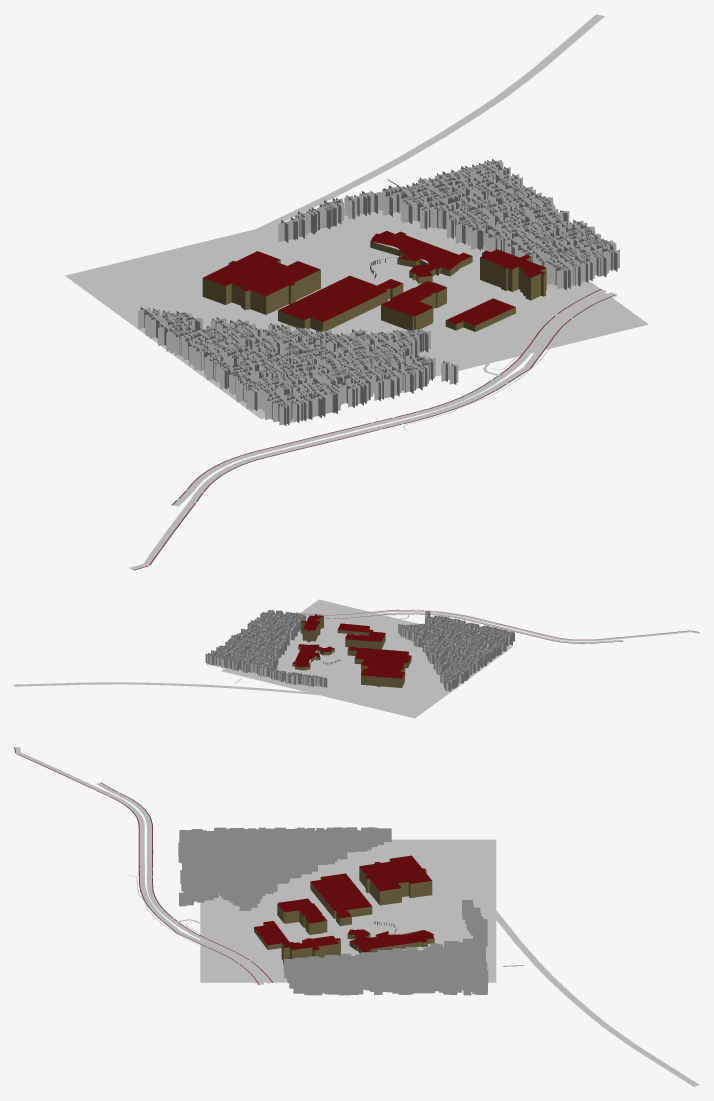
The model's file is CU-ICAR.obj.
The picture shows the model from 3 angles, top to bottom: view 1: azimuth 30°, elevation 25°; view 2: azimuth 150°, elevation 25°; view 3: azimuth 270°, elevation 25°; orthographic projection. The views are drawn at different scales.
Parts seen in each view (by area): view 1: Forest174, Forest177, SurfaceArea184, SurfaceArea183, SurfaceArea182, Road Millennium Boulevard, Building175, Building ICAR AutoPark, Road I 85, Building Carroll Campbell Graduate Engineering Center, Building176, SurfaceArea185 (+2 smaller); view 2: Forest174, Forest177, SurfaceArea183, SurfaceArea182, SurfaceArea184, Road Millennium Boulevard, Building175, Road I 85, Building ICAR AutoPark, SurfaceArea185, Building Carroll Campbell Graduate Engineering Center, Building Center for Emerging Technologies (+2 smaller); view 3: Forest174, Forest177, SurfaceArea182, SurfaceArea183, SurfaceArea184, Road Millennium Boulevard, Building175, Road I 85, Building ICAR AutoPark, Building Carroll Campbell Graduate Engineering Center, Building Center for Emerging Technologies, Building176 (+2 smaller).
Boxes of the visible parts, x1,y1,x2,y2 form: Forest174: (138, 307, 458, 425); Forest177: (278, 159, 619, 290); SurfaceArea184: (364, 236, 648, 359); SurfaceArea183: (65, 221, 362, 316); SurfaceArea182: (121, 257, 502, 418); Road Millennium Boulevard: (129, 289, 616, 570); Building175: (202, 251, 320, 314); Building ICAR AutoPark: (278, 275, 403, 331); Road I 85: (113, 14, 604, 300); Building Carroll Campbell Graduate Engineering Center: (370, 231, 472, 283); Building176: (480, 249, 546, 300); SurfaceArea185: (323, 208, 446, 257); Forest174: (398, 611, 514, 691); Forest177: (205, 609, 327, 687); SurfaceArea183: (294, 668, 442, 718); SurfaceArea182: (322, 617, 512, 697); SurfaceArea184: (280, 599, 391, 668); Road Millennium Boulevard: (296, 610, 699, 643); Building175: (361, 659, 405, 687); Road I 85: (14, 682, 426, 704); Building ICAR AutoPark: (347, 646, 411, 668); SurfaceArea185: (221, 658, 321, 688); Building Carroll Campbell Graduate Engineering Center: (292, 644, 334, 670); Building Center for Emerging Technologies: (345, 631, 385, 649); Forest174: (178, 827, 391, 910); Forest177: (283, 900, 488, 995); SurfaceArea182: (200, 839, 411, 928); SurfaceArea183: (411, 839, 496, 928); SurfaceArea184: (200, 929, 411, 982); Road Millennium Boulevard: (14, 747, 272, 984); Building175: (359, 855, 432, 905); Road I 85: (437, 844, 699, 1086); Building ICAR AutoPark: (310, 873, 372, 926); Building Carroll Campbell Graduate Engineering Center: (347, 929, 434, 953); Building Center for Emerging Technologies: (277, 898, 327, 934); Building176: (281, 935, 340, 964).
Bounding box in the file's own units: 1141 × 29.6 × 973.
